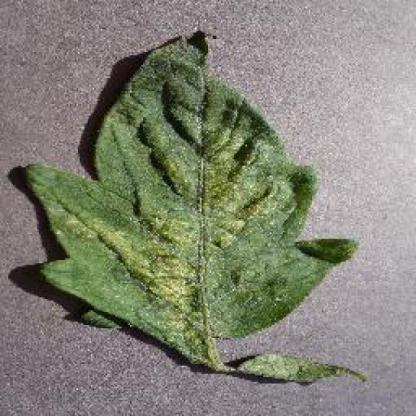Tomato_Spider_Mites: (26, 31, 358, 382)
